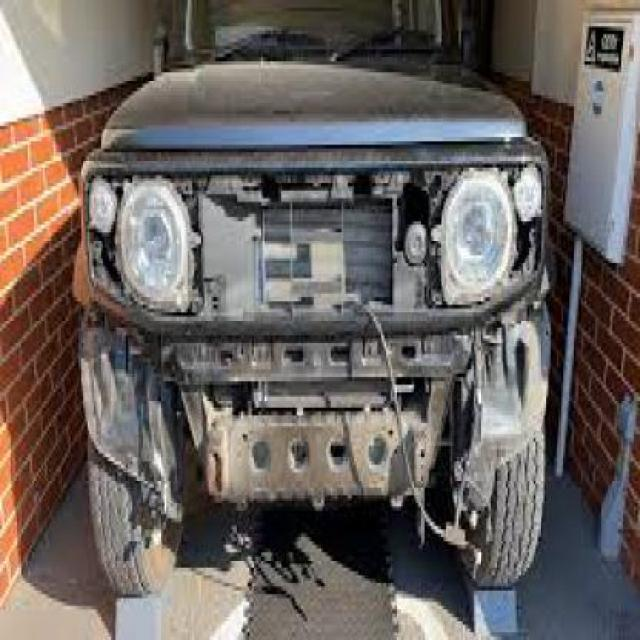damaged-front-bumper: (85, 326, 547, 520)
